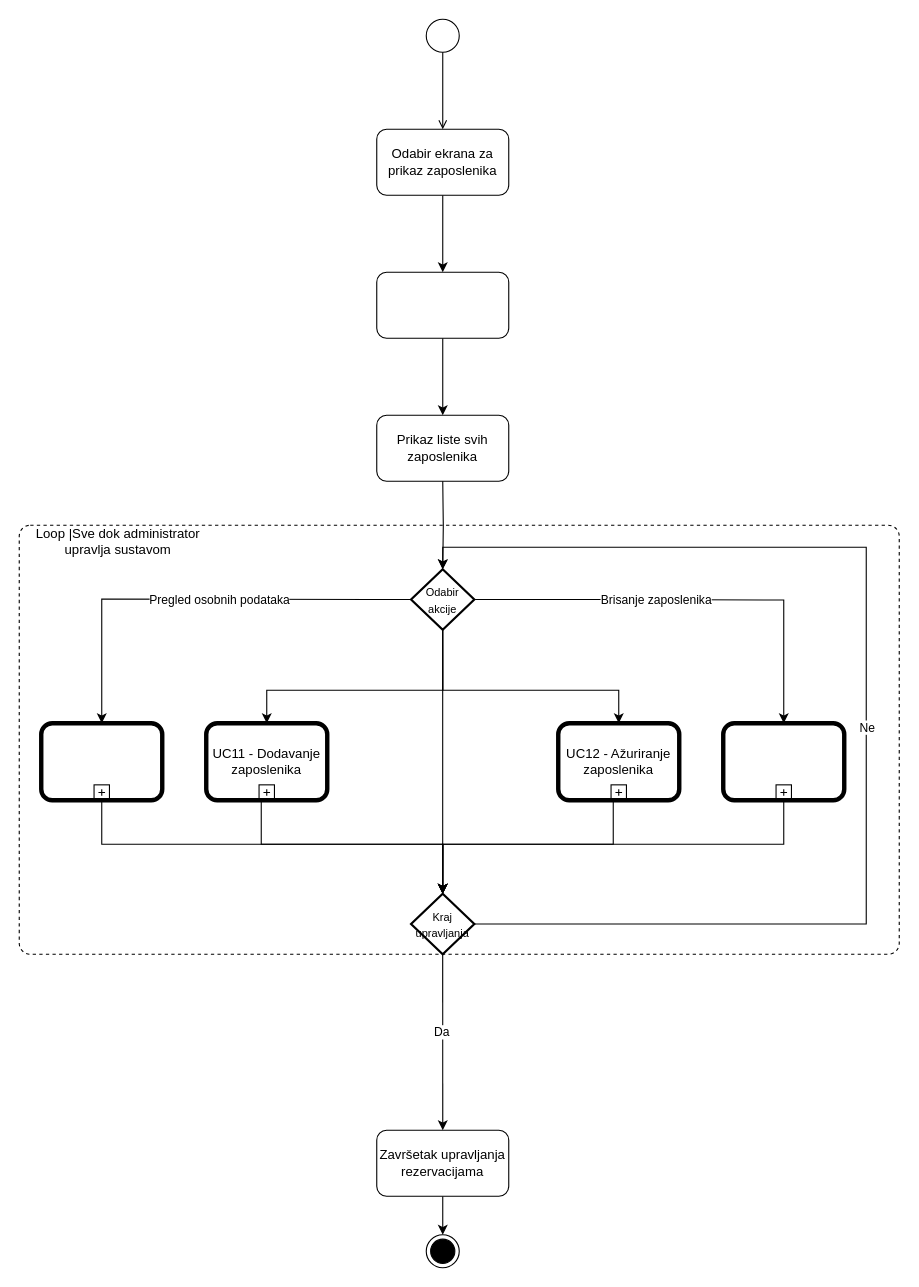
The diagram is 919 pixels wide and 1287 high, and some of its shapes have lost their labels. Here are the shapes that lost their labels. From the top down, the centre of each, then its label:
the point at 442,304: Dohvat svih zaposlenika iz baze podataka
the point at 101,761: UC05 - Pregled osobnih podataka zaposlenika
the point at 783,761: UC13 - Brisanje zaposlenika
